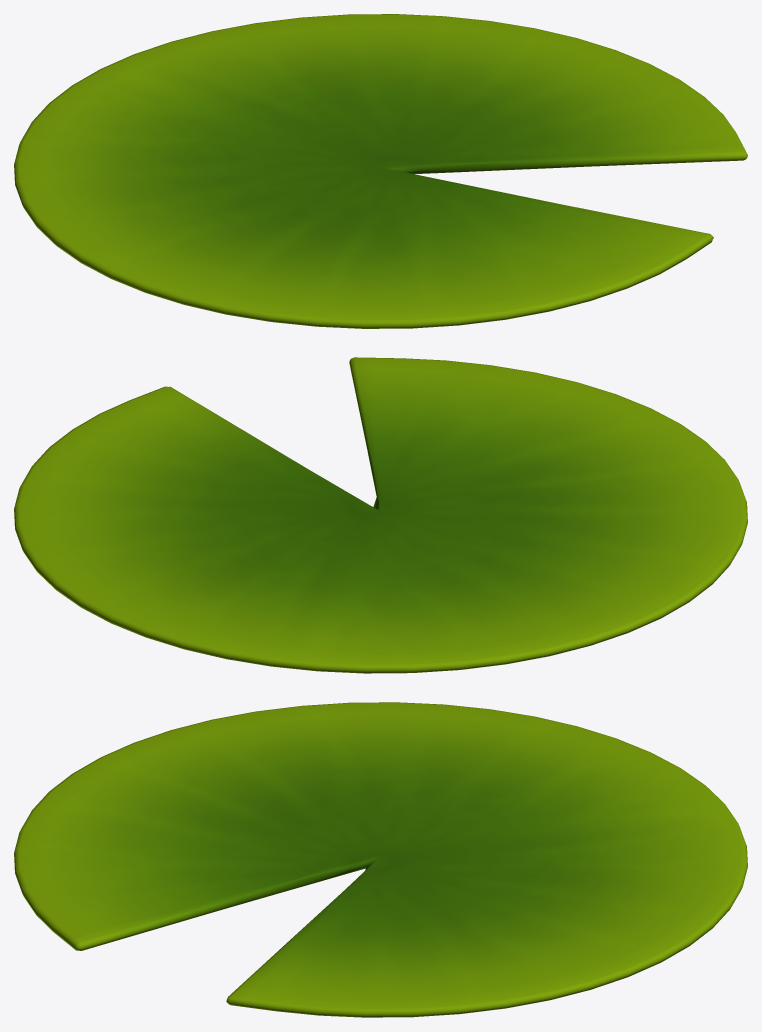
File: lotus_leaf2.fbx
The picture shows the model from 3 angles, top to bottom: view 1: azimuth 30°, elevation 25°; view 2: azimuth 150°, elevation 25°; view 3: azimuth 270°, elevation 25°; orthographic projection.
Parts seen in each view (by area): view 1: lotus_leaf2; view 2: lotus_leaf2; view 3: lotus_leaf2.
Boxes of the visible parts, <box> form: lotus_leaf2: <box>14,14,747,328</box>; lotus_leaf2: <box>14,357,747,673</box>; lotus_leaf2: <box>14,702,747,1017</box>.
Size of the model in its own units: 814 by 10.24 by 814.
Materials: 1 (1 with a texture image).
